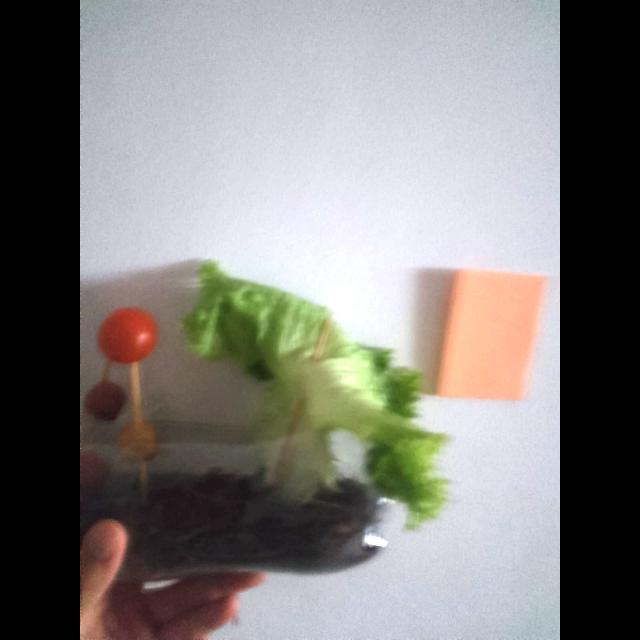card: (437, 270, 545, 399)
fully_grown: (97, 307, 158, 363)
